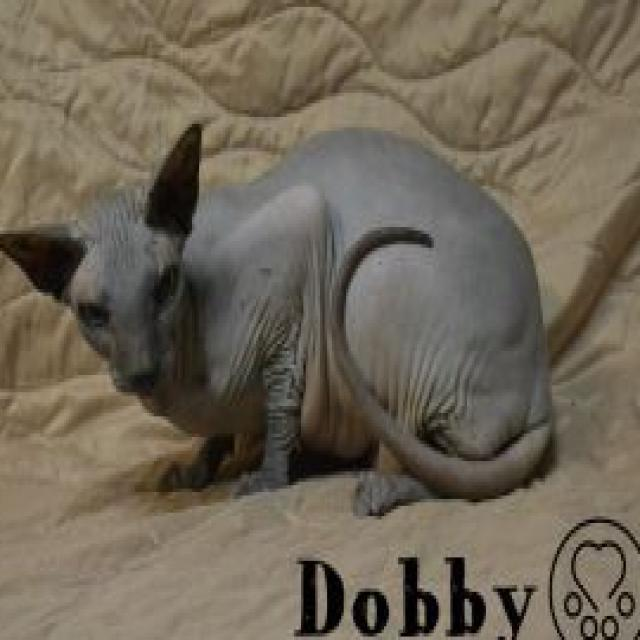Sphynx: (0, 110, 559, 523)
